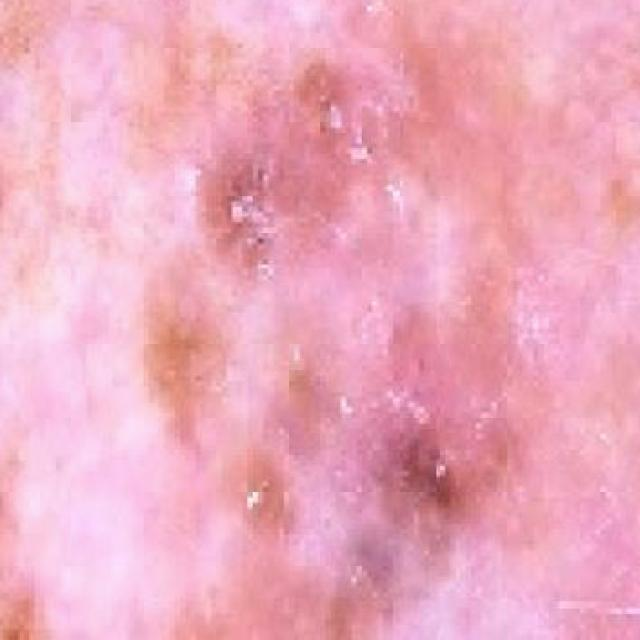BKL: (0, 7, 629, 640)
